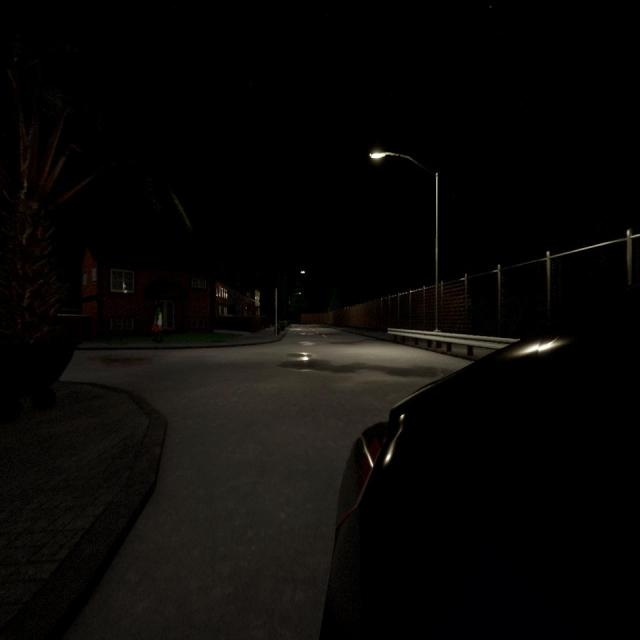Pedestrian: (152, 304, 162, 345)
Vehicle: (320, 288, 640, 638)
